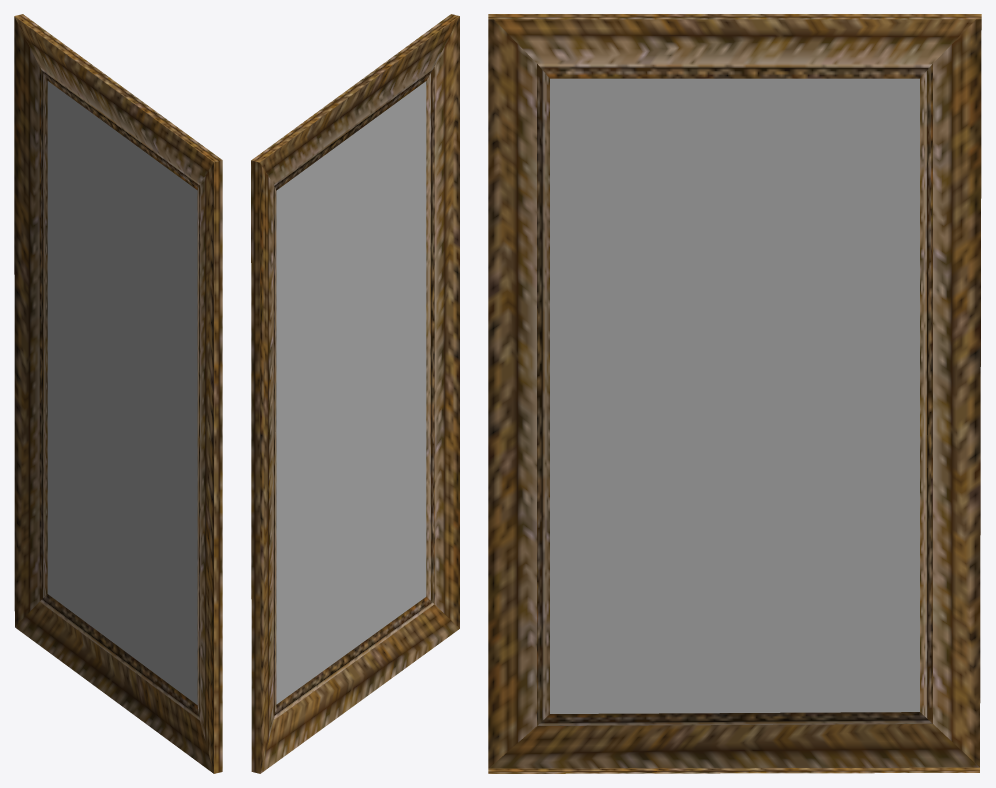
File: frn_all_painting_zabrak_m1.fbx
The picture shows the model from 3 angles, left to right: view 1: azimuth 30°, elevation 25°; view 2: azimuth 150°, elevation 25°; view 3: azimuth 270°, elevation 25°; orthographic projection. The views are drawn at different scales.
Visible parts, largest first — view 1: mesh_node; view 2: mesh_node; view 3: mesh_node.
Part boxes in pixels (x1=…): mesh_node: x1=14, y1=14, x2=222, y2=773; mesh_node: x1=251, y1=14, x2=459, y2=773; mesh_node: x1=488, y1=14, x2=981, y2=773.
Size of the model in its own units: 0.0389 by 2.6 by 1.54.
